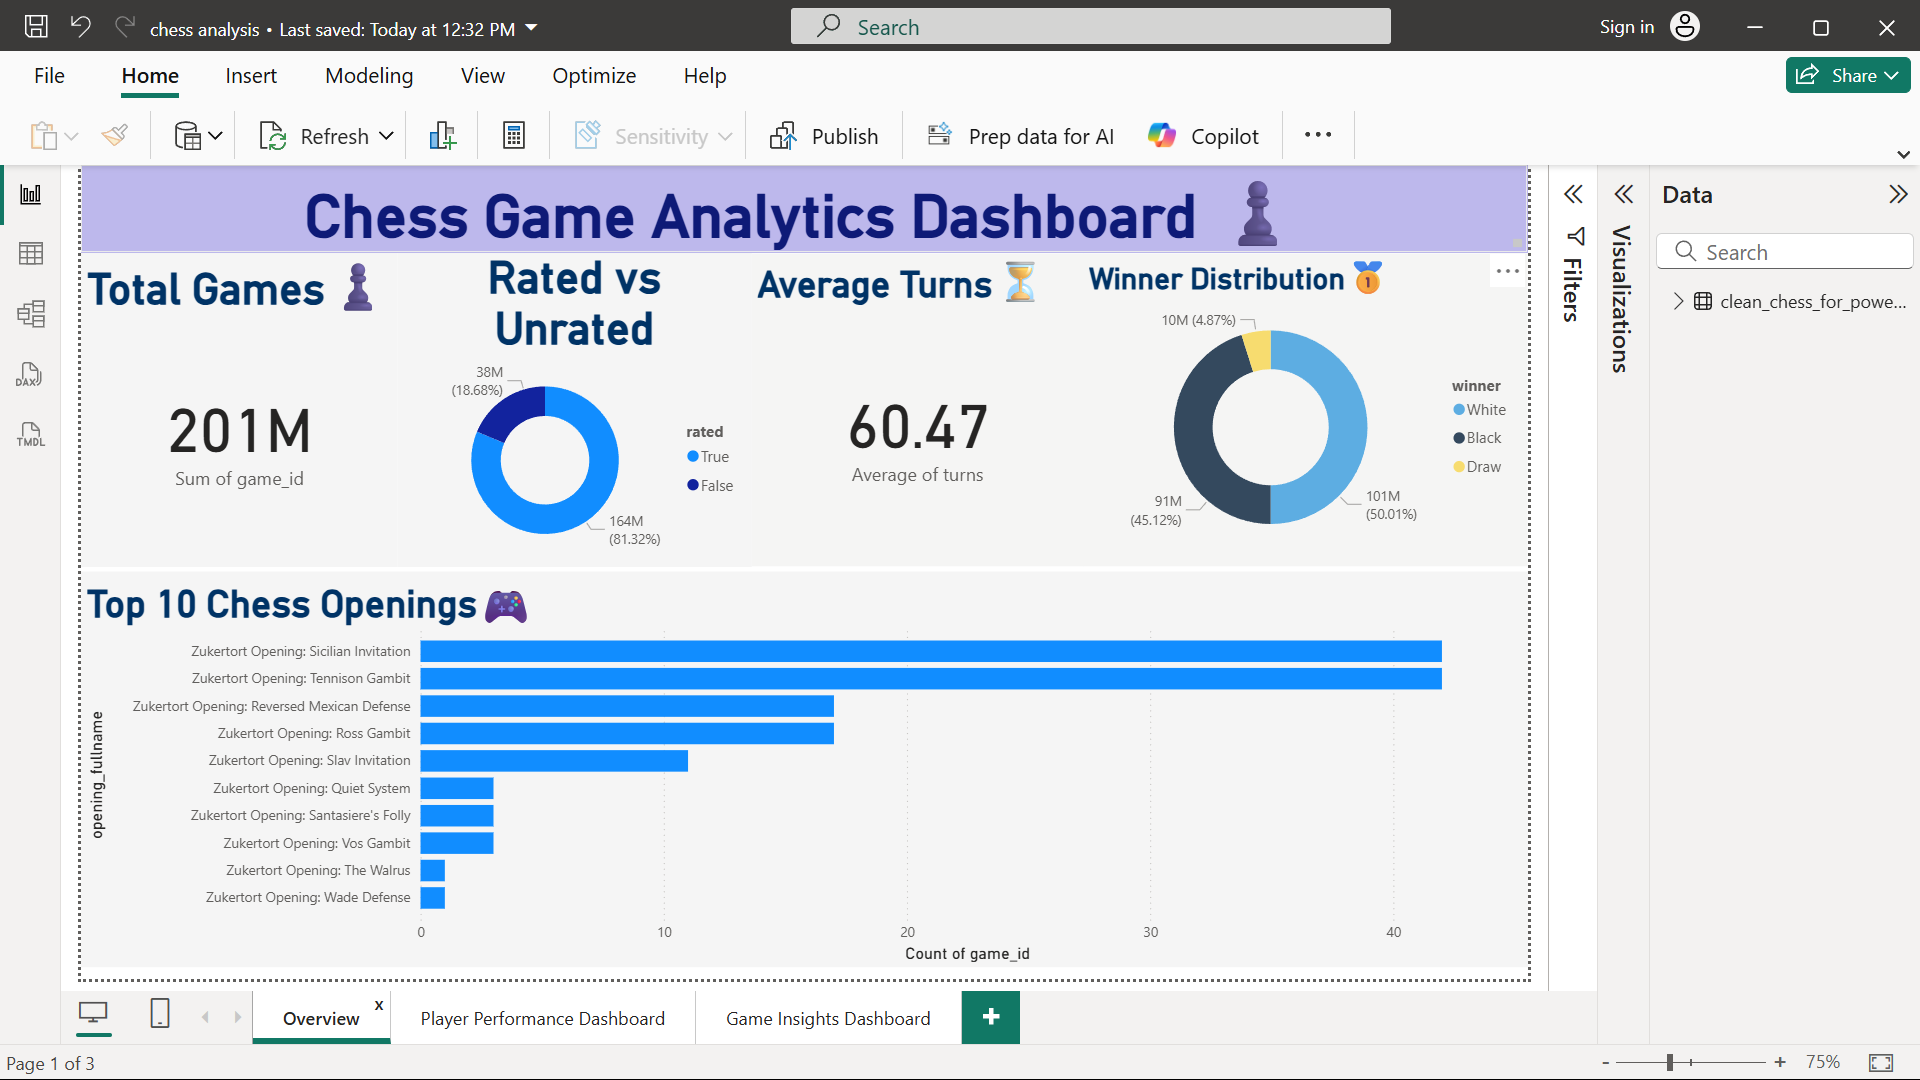

This screenshot's page, from the dashboard's own definition file:
{"tool":"powerbi","page":{"name":"Overview","canvas":[1280,720],"ordinal":0},"visuals":[{"type":"card","title":"Total Games♟️","fields":{"Values":["clean_chess_for_powerbi.game_id"]},"box":[0,76.7,280,278.3],"z":0},{"type":"donutChart","title":"Rated vs Unrated","fields":{"Category":["clean_chess_for_powerbi.rated"],"Y":["clean_chess_for_powerbi.game_id"]},"box":[280,76.7,313.3,278.3],"z":1000},{"type":"card","title":"Average Turns⏳","fields":{"Values":["clean_chess_for_powerbi.turns"]},"box":[593.3,78.3,293.3,276.7],"z":2000},{"type":"donutChart","title":"Winner Distribution🥇","fields":{"Category":["clean_chess_for_powerbi.winner"],"Y":["clean_chess_for_powerbi.game_id"]},"box":[886.7,78.3,393.3,276.7],"z":3000},{"type":"barChart","title":"Top 10 Chess Openings🎮","fields":{"Category":["clean_chess_for_powerbi.opening_fullname"],"Y":["clean_chess_for_powerbi.game_id"]},"box":[0,360,1280,350],"z":4000},{"type":"textbox","title":" Chess Game Analytics Dashboard ♟️","box":[0,0,1279.4,77.5],"z":4001}]}

Visuals, with their boxes on the page's 1280x720 design canvas (x1, y1, x2, y2). These are canvas units, not pixel positions in the 1920x1080 screenshot, which may show the page scaled, cropped or inside an application window:
"Total Games♟️" card: 0:77:280:355
"Rated vs Unrated" donutChart: 280:77:593:355
"Average Turns⏳" card: 593:78:887:355
"Winner Distribution🥇" donutChart: 887:78:1280:355
"Top 10 Chess Openings🎮" barChart: 0:360:1280:710
" Chess Game Analytics Dashboard ♟️" textbox: 0:0:1279:78
